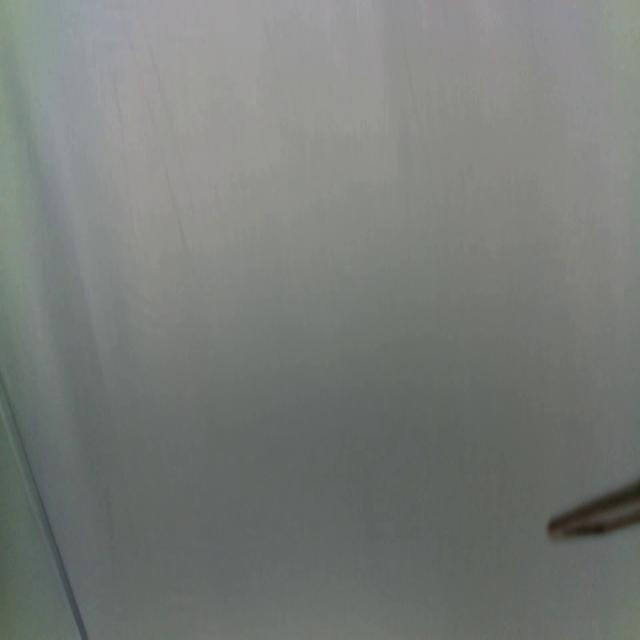crease: (0, 372, 90, 640)
